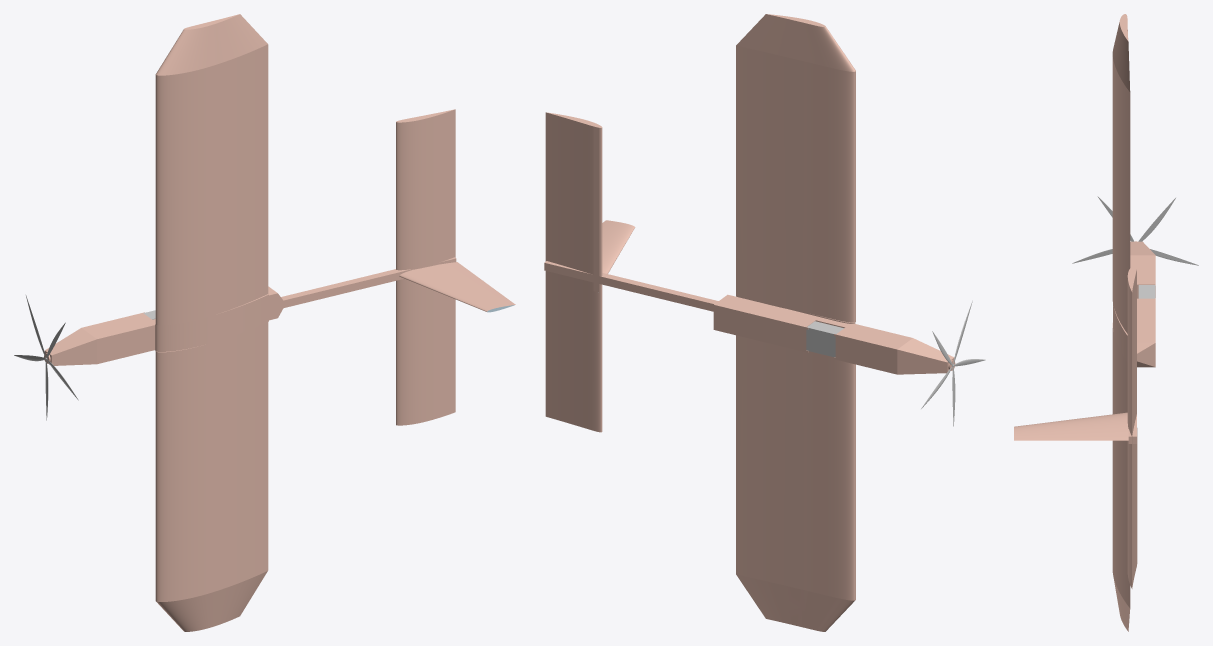
Rendered from egg_dropper.gltf.
3 views of the same model, side by side, from view 1: azimuth 30°, elevation 25°; view 2: azimuth 150°, elevation 25°; view 3: azimuth 270°, elevation 25° (orthographic). The views are drawn at different scales.
Parts seen in each view (by area): view 1: Part 1 (×3), Part 2; view 2: Part 1 (×4), Part 2; view 3: Part 1 (×3), Part 2.
Part boxes in pixels (bbox=[...]): Part 1 (×3): bbox=[14, 109, 515, 631]; Part 2: bbox=[155, 14, 268, 325]; Part 1 (×4): bbox=[544, 112, 985, 631]; Part 2: bbox=[736, 14, 855, 322]; Part 1 (×3): bbox=[1014, 196, 1198, 631]; Part 2: bbox=[1112, 14, 1130, 333].
Size of the model in its own units: 2.82 by 3.97 by 1.13.
